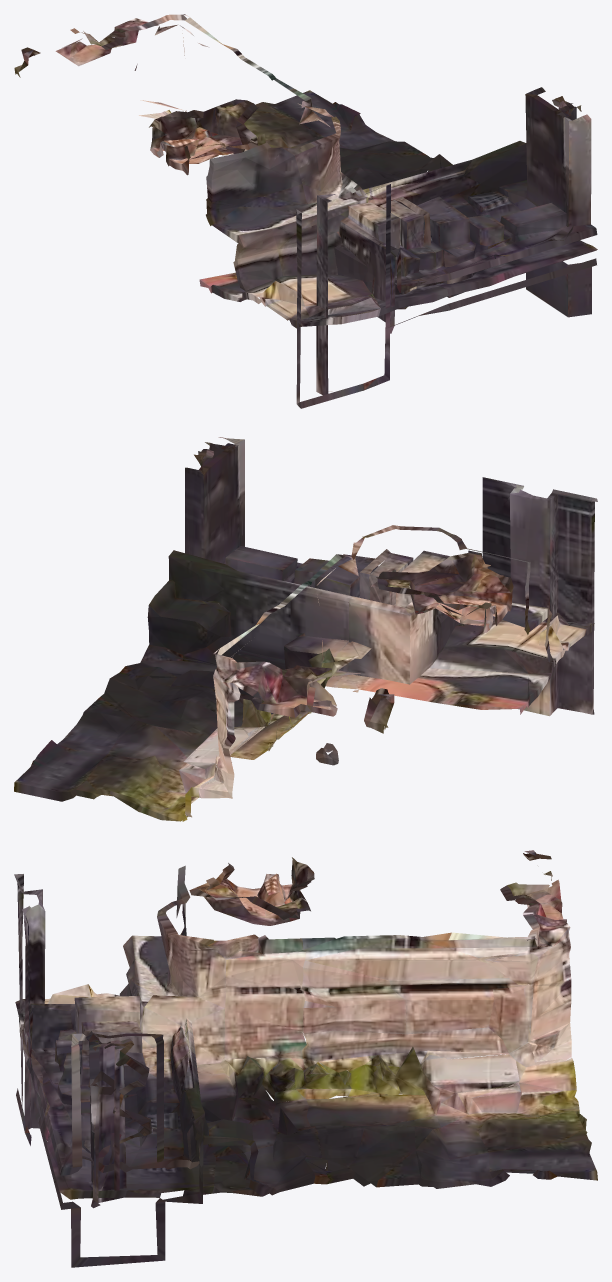
The picture shows the model from 3 angles, top to bottom: view 1: azimuth 30°, elevation 25°; view 2: azimuth 150°, elevation 25°; view 3: azimuth 270°, elevation 25°; orthographic projection. The views are drawn at different scales.
Visible parts, largest first — view 1: Mesh_0; view 2: Mesh_0; view 3: Mesh_0.
Boxes of the visible parts, x1=… form: Mesh_0: x1=14, y1=14, x2=597, y2=408; Mesh_0: x1=14, y1=437, x2=597, y2=821; Mesh_0: x1=14, y1=850, x2=597, y2=1267.
Size of the model in its own units: 33.44 by 17.61 by 41.4.
1 material, 1 textured.
